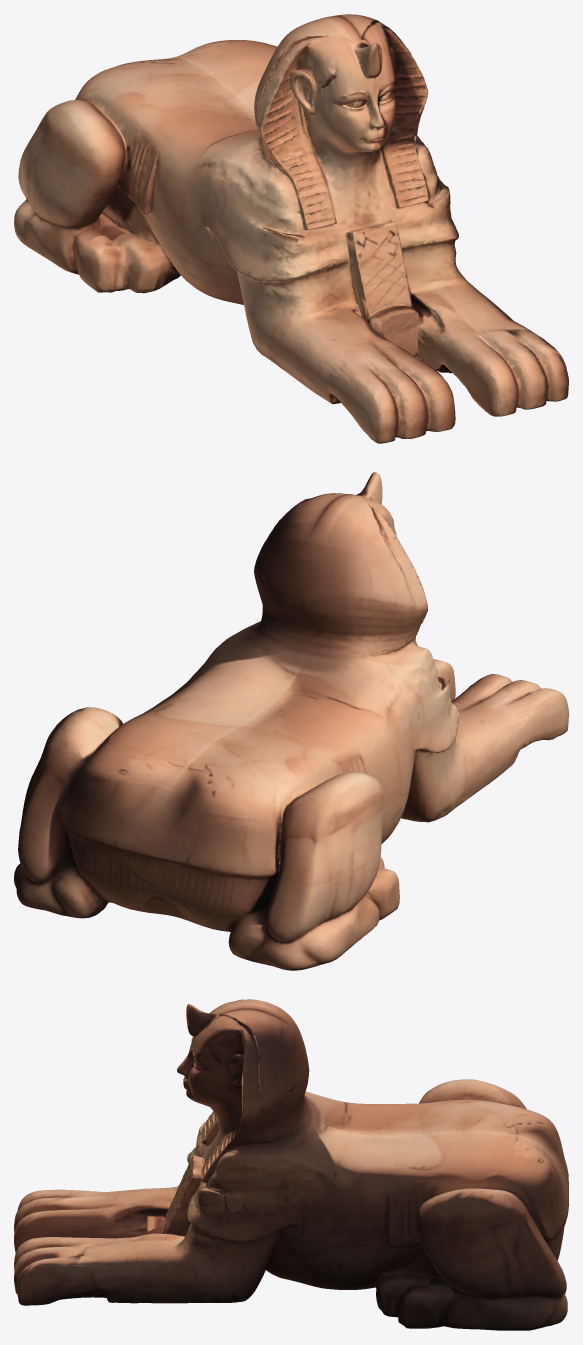
File: esfinge_giza.glb
3 renders of one model, top to bottom at view 1: azimuth 30°, elevation 25°; view 2: azimuth 150°, elevation 25°; view 3: azimuth 270°, elevation 25°, orthographic. The views are drawn at different scales.
Visible parts, largest first — view 1: Object_6; view 2: Object_6; view 3: Object_6.
Part boxes in pixels (x1,y1,x2,y2): Object_6: [14, 14, 568, 443]; Object_6: [14, 472, 568, 970]; Object_6: [14, 999, 568, 1330].
Bounding box in the file's own units: 0.586 × 0.5265 × 0.9998.
Materials: 1 (1 with a texture image).
